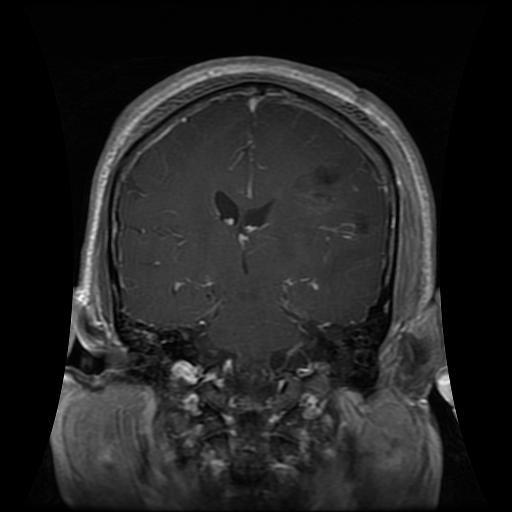Gliomia_tumour: (295, 158, 369, 253)
